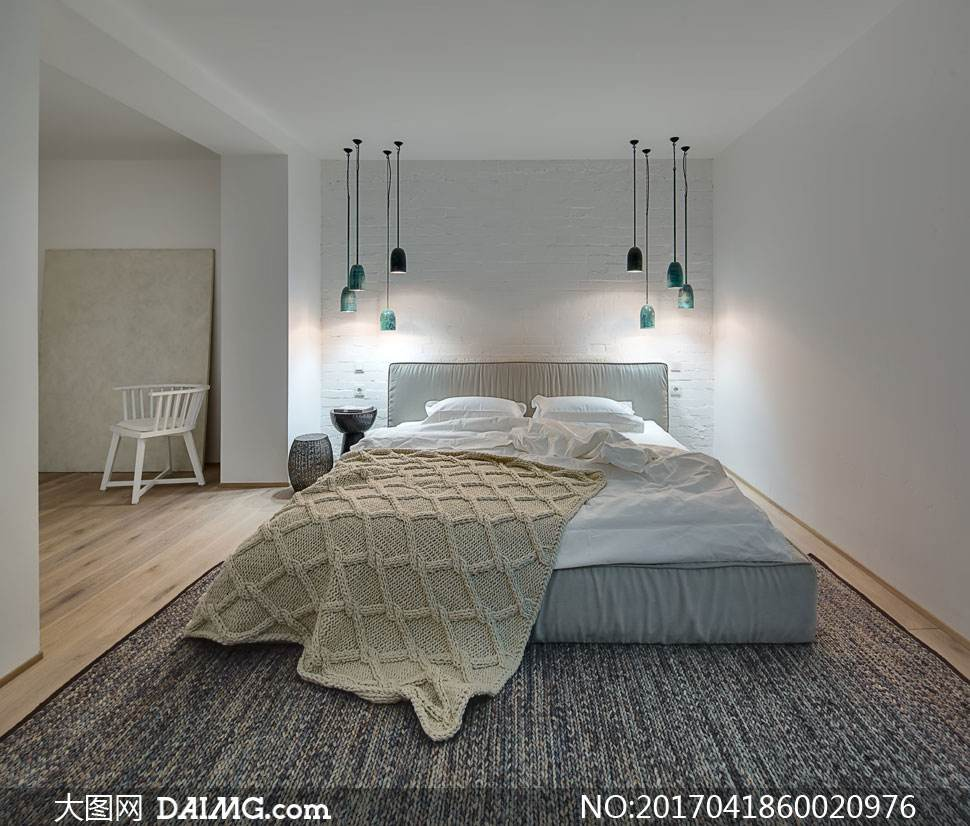床: (212, 428, 818, 704)
枕头: (386, 389, 665, 458)
灯: (336, 127, 411, 348), (625, 133, 704, 333)
